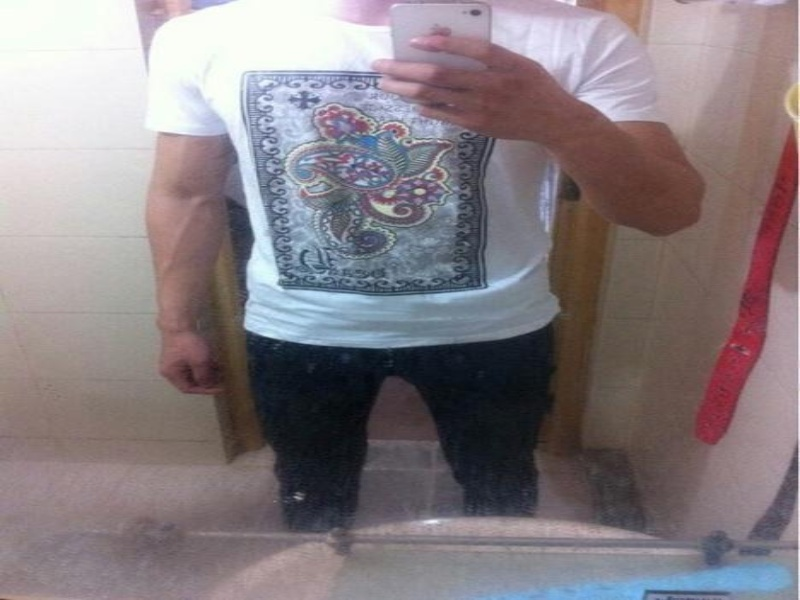short_sleeved_shirt: (137, 2, 668, 353)
trousers: (239, 310, 557, 536)
